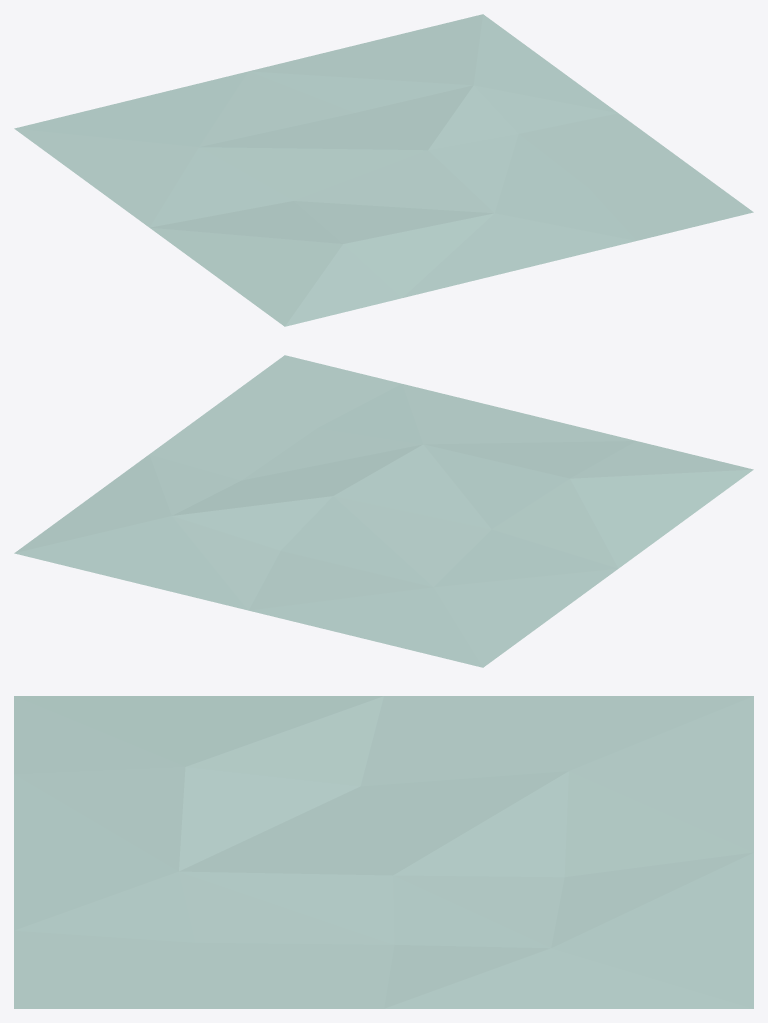
File: Water.fbx
The picture shows the model from 3 angles, top to bottom: view 1: azimuth 30°, elevation 25°; view 2: azimuth 150°, elevation 25°; view 3: azimuth 270°, elevation 25°; orthographic projection. The views are drawn at different scales.
Parts seen in each view (by area): view 1: Water; view 2: Water; view 3: Water.
Part boxes in pixels (left/top/right/bottom): Water: left=14, top=14, right=753, bottom=326; Water: left=14, top=355, right=753, bottom=667; Water: left=14, top=696, right=753, bottom=1008.
Size of the model in its own units: 50 by 0.74 by 50.
